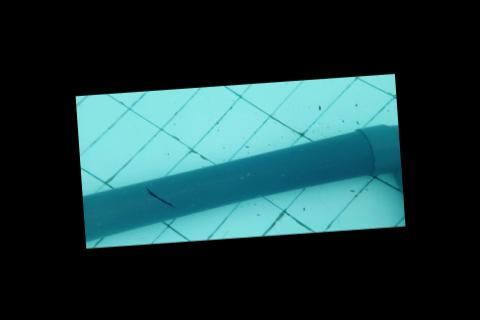keretakan: (143, 183, 176, 209)
